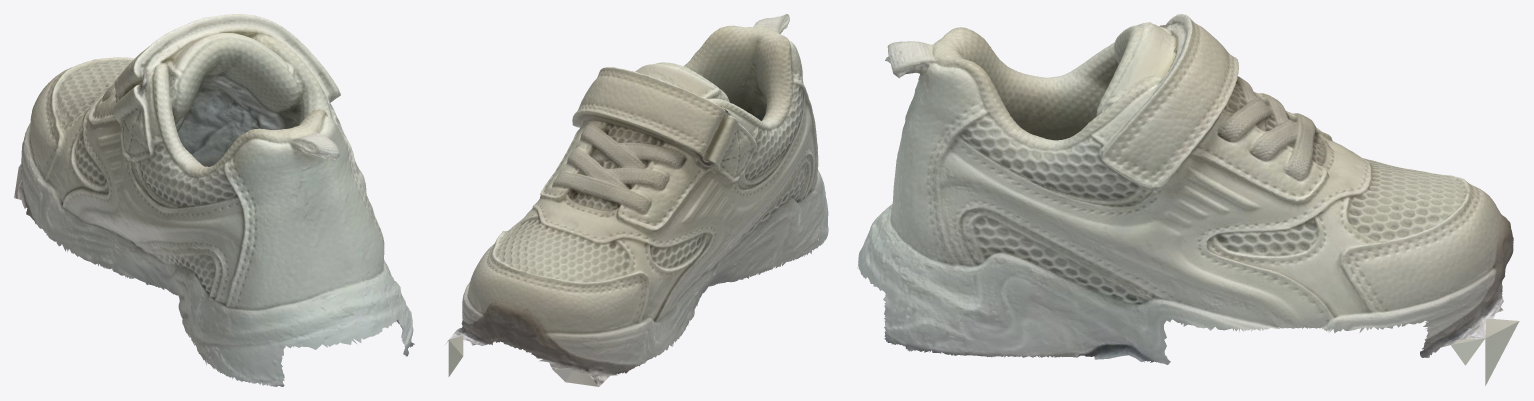
Rendered from zapatilla-escolar.glb.
The picture shows the model from 3 angles, left to right: view 1: azimuth 30°, elevation 25°; view 2: azimuth 150°, elevation 25°; view 3: azimuth 270°, elevation 25°; orthographic projection. The views are drawn at different scales.
Parts seen in each view (by area): view 1: Object_2; view 2: Object_2; view 3: Object_2.
Boxes of the visible parts, box(x1,y1,x2,y2) form: Object_2: box(14, 14, 414, 386); Object_2: box(445, 14, 828, 386); Object_2: box(857, 14, 1519, 385).
Size of the model in its own units: 0.1583 by 0.187 by 0.3704.
1 material, 1 textured.
